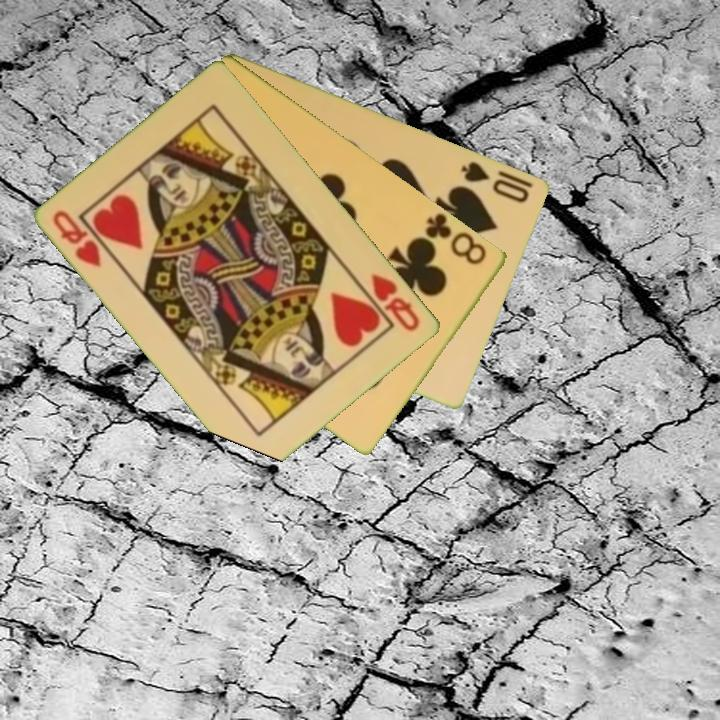10s: (458, 157, 533, 206)
8c: (417, 209, 490, 268)
Qh: (49, 206, 106, 270), (368, 270, 423, 335)
